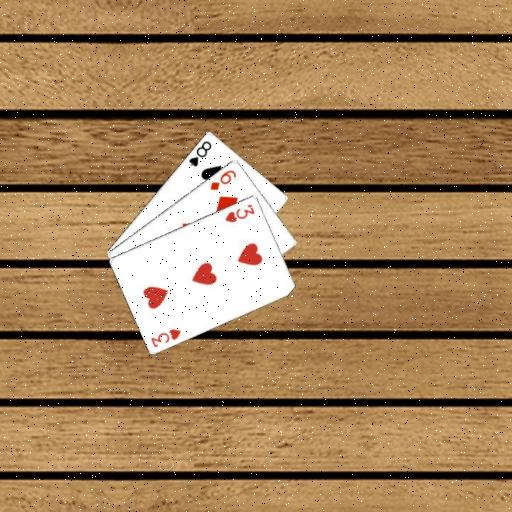3H: (148, 325, 183, 349), (222, 201, 257, 224)
6D: (207, 167, 237, 192)
8S: (186, 138, 214, 168)
